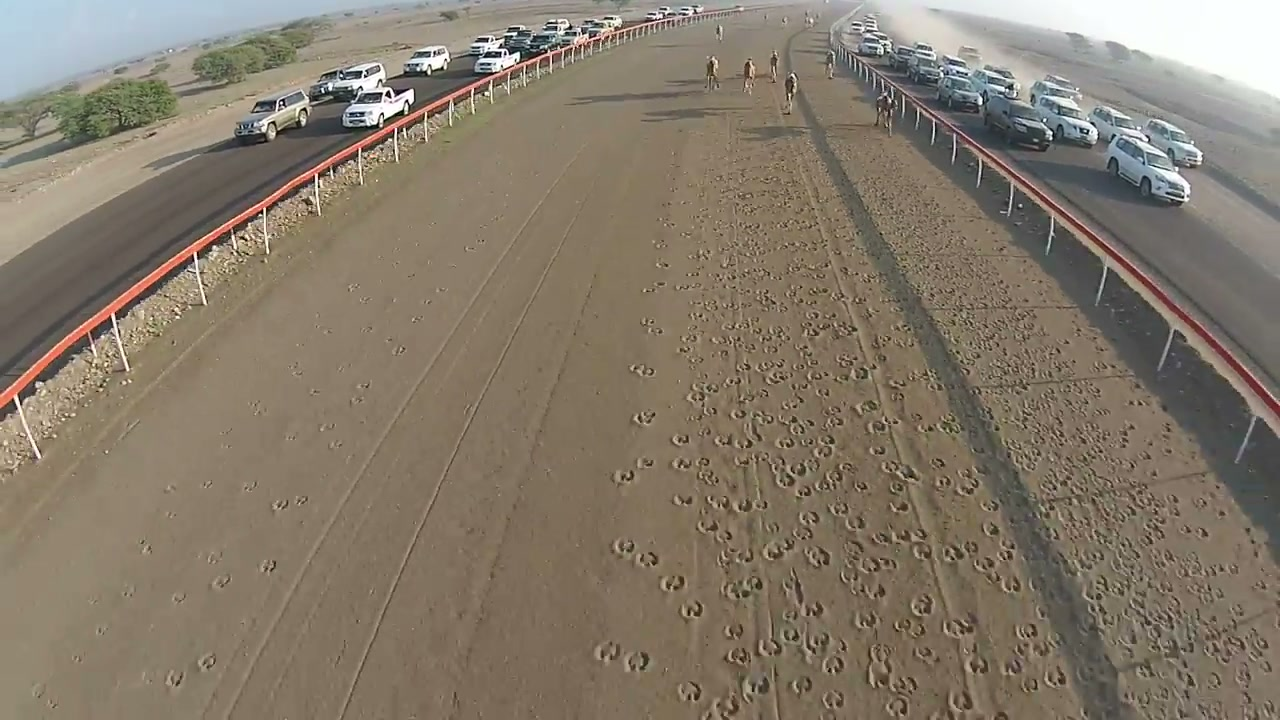animal_footprint: (666, 214, 1032, 716), (671, 404, 716, 446), (593, 641, 652, 672), (866, 644, 894, 689), (800, 630, 846, 657), (700, 692, 742, 719), (721, 575, 763, 601), (716, 543, 754, 571), (873, 528, 929, 546), (741, 671, 772, 703), (778, 459, 819, 483), (881, 461, 920, 484), (677, 323, 717, 344), (761, 538, 794, 561), (942, 617, 975, 639), (814, 470, 844, 494), (851, 582, 887, 602), (884, 695, 910, 719), (933, 415, 964, 435), (678, 346, 706, 368), (948, 689, 974, 712), (724, 646, 751, 668), (890, 675, 918, 696), (910, 593, 934, 617), (732, 497, 768, 513), (972, 555, 997, 578), (676, 681, 702, 703), (685, 383, 711, 405), (594, 642, 621, 663), (348, 381, 370, 406), (804, 545, 829, 567), (853, 609, 880, 629), (624, 651, 651, 671), (1044, 665, 1067, 688), (965, 653, 989, 675), (611, 537, 635, 558), (757, 637, 782, 657), (866, 418, 897, 434), (954, 478, 980, 497), (815, 434, 836, 457), (680, 600, 704, 620), (1015, 623, 1040, 642), (793, 482, 819, 500), (997, 538, 1016, 562), (773, 469, 796, 488), (660, 575, 685, 592), (695, 517, 720, 534), (1000, 575, 1022, 594), (822, 690, 844, 709), (822, 655, 844, 674), (635, 551, 658, 568), (844, 515, 867, 532), (764, 370, 790, 385), (696, 470, 720, 486), (166, 669, 184, 690), (36, 692, 58, 709), (712, 528, 735, 544), (849, 366, 875, 380), (197, 652, 216, 671), (1020, 675, 1040, 693), (632, 411, 656, 426), (888, 498, 910, 514), (933, 475, 955, 491), (798, 510, 820, 526), (612, 469, 635, 484), (912, 543, 932, 560), (915, 421, 941, 434), (835, 353, 856, 369), (828, 501, 849, 517), (752, 412, 776, 426), (733, 361, 752, 378), (248, 400, 267, 417), (691, 408, 714, 422), (724, 623, 744, 639), (671, 456, 693, 470), (211, 573, 230, 589), (672, 493, 693, 507), (1206, 672, 1223, 689), (806, 370, 830, 382), (677, 345, 693, 363), (980, 498, 1000, 512), (671, 433, 691, 447), (713, 434, 734, 447), (30, 683, 47, 699), (729, 407, 748, 421), (929, 457, 948, 471), (272, 498, 289, 512), (636, 456, 654, 469), (688, 310, 707, 322), (205, 551, 222, 564), (259, 560, 276, 573), (868, 445, 888, 456), (317, 421, 335, 433), (674, 283, 701, 291), (120, 584, 135, 598), (138, 540, 152, 555), (327, 438, 343, 450), (990, 710, 1011, 719), (171, 591, 185, 604), (293, 495, 308, 507), (646, 325, 663, 335), (392, 345, 407, 356), (242, 481, 256, 492), (410, 314, 425, 324), (284, 431, 298, 441), (652, 280, 667, 289), (641, 318, 656, 327), (642, 285, 657, 293), (655, 260, 669, 268), (165, 510, 177, 519), (654, 241, 667, 249), (464, 245, 477, 252), (435, 286, 447, 293), (686, 271, 700, 277)
